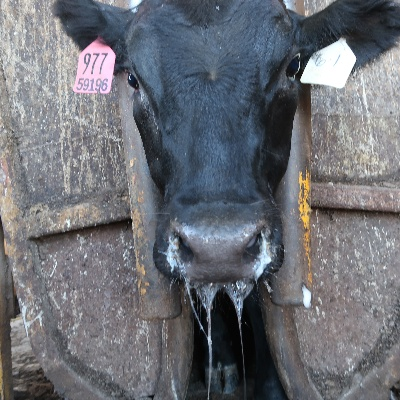fidget_spinner: (150, 213, 279, 303)
